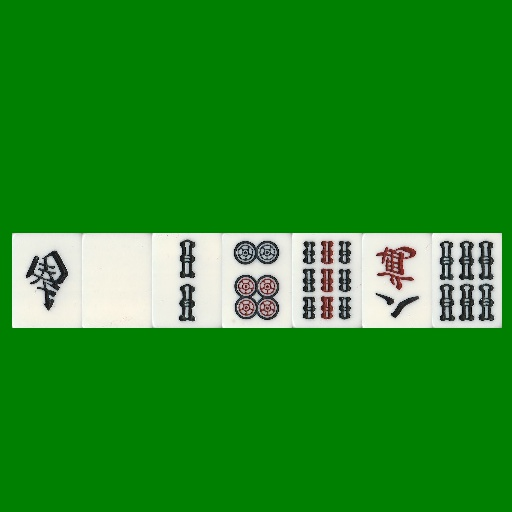2s: (152, 233, 222, 328)
6p: (222, 233, 292, 328)
6s: (432, 233, 502, 328)
8m: (362, 233, 432, 328)
9s: (292, 233, 362, 328)
south: (12, 233, 82, 328)
white: (82, 233, 152, 328)
